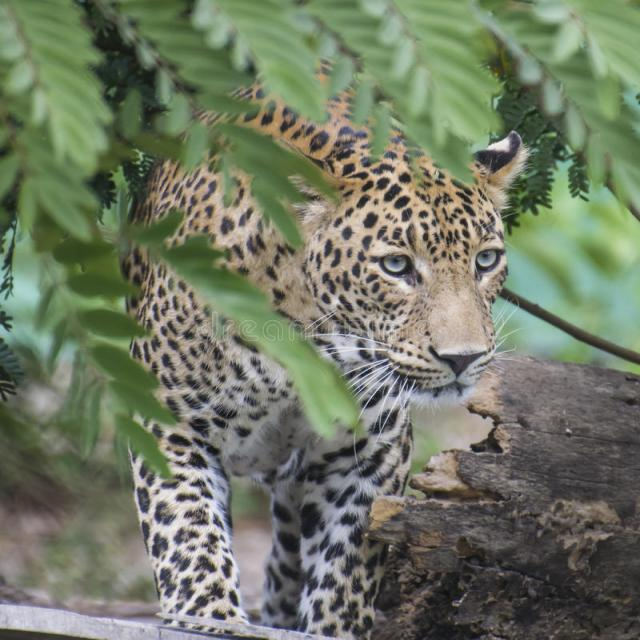Leopard: (126, 62, 524, 636)
